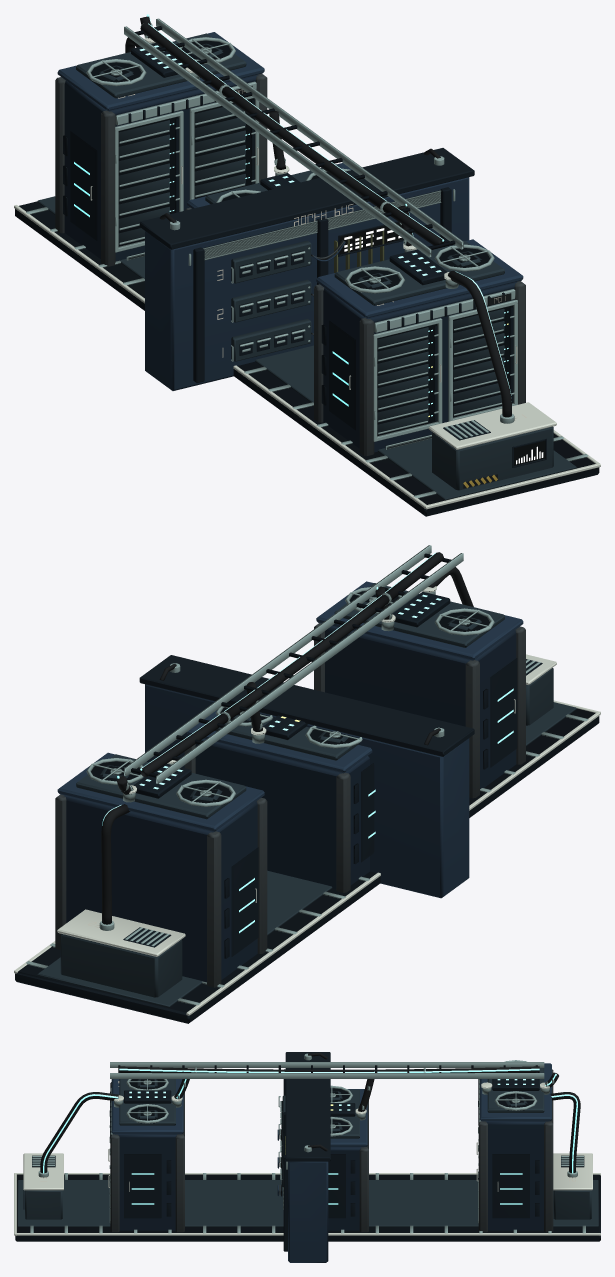
File: comms-engineering.glb
3 views of the same model, one above another, from view 1: azimuth 30°, elevation 25°; view 2: azimuth 150°, elevation 25°; view 3: azimuth 270°, elevation 25° (orthographic). The views are drawn at different scales.
Visible parts, largest first — view 1: relay-monolith-spine--e9-body, relay-monolith-spine--e9-dark, relay-monolith-spine--p11-tint, relay-monolith-spine--e9-trim, relay-crosspatch--p11-tint, relay-crosspatch--e9-dark, relay-monolith-spine--p11-rubber, relay-monolith-spine--e9-ceramic, relay-crosspatch--e9-body, relay-crosspatch--e9-trim, relay-monolith-spine--e9-cyan; view 2: relay-monolith-spine--p11-tint, relay-monolith-spine--e9-dark, relay-monolith-spine--e9-body, relay-crosspatch--p11-tint, relay-monolith-spine--e9-trim, relay-crosspatch--e9-dark, relay-monolith-spine--p11-rubber, relay-monolith-spine--e9-ceramic, relay-monolith-spine--e9-cyan; view 3: relay-monolith-spine--e9-body, relay-monolith-spine--e9-dark, relay-monolith-spine--p11-tint, relay-monolith-spine--e9-trim, relay-monolith-spine--e9-ceramic, relay-crosspatch--e9-dark, relay-crosspatch--p11-tint, relay-monolith-spine--p11-rubber, relay-monolith-spine--e9-cyan, relay-crosspatch--e9-trim.
Boxes of the visible parts, x1,y1,x2,y2 form: relay-monolith-spine--e9-body: (37, 33, 576, 500); relay-monolith-spine--e9-dark: (15, 26, 599, 516); relay-monolith-spine--p11-tint: (55, 32, 545, 488); relay-monolith-spine--e9-trim: (26, 18, 588, 498); relay-crosspatch--p11-tint: (145, 177, 469, 390); relay-crosspatch--e9-dark: (139, 148, 474, 382); relay-monolith-spine--p11-rubber: (125, 16, 511, 417); relay-monolith-spine--e9-ceramic: (14, 36, 600, 509); relay-crosspatch--e9-body: (231, 240, 311, 361); relay-crosspatch--e9-trim: (170, 156, 455, 361); relay-monolith-spine--e9-cyan: (74, 14, 511, 416); relay-monolith-spine--p11-tint: (55, 581, 525, 987); relay-monolith-spine--e9-dark: (15, 553, 599, 1023); relay-monolith-spine--e9-body: (37, 583, 576, 1007); relay-crosspatch--p11-tint: (145, 684, 469, 898); relay-monolith-spine--e9-trim: (26, 545, 588, 1005); relay-crosspatch--e9-dark: (139, 655, 474, 756); relay-monolith-spine--p11-rubber: (101, 552, 473, 924); relay-monolith-spine--e9-ceramic: (14, 586, 600, 1015); relay-monolith-spine--e9-cyan: (102, 552, 513, 933); relay-monolith-spine--e9-body: (17, 1068, 598, 1226); relay-monolith-spine--e9-dark: (15, 1065, 600, 1241); relay-monolith-spine--p11-tint: (40, 1063, 575, 1232); relay-monolith-spine--e9-trim: (30, 1060, 585, 1233); relay-monolith-spine--e9-ceramic: (14, 1082, 600, 1235); relay-crosspatch--e9-dark: (281, 1052, 330, 1251); relay-crosspatch--p11-tint: (277, 1129, 328, 1262); relay-monolith-spine--p11-rubber: (40, 1066, 580, 1173); relay-monolith-spine--e9-cyan: (43, 1068, 577, 1204); relay-crosspatch--e9-trim: (278, 1053, 311, 1183).
Bounding box in the file's own units: 5.3 × 3.39 × 12.43.
